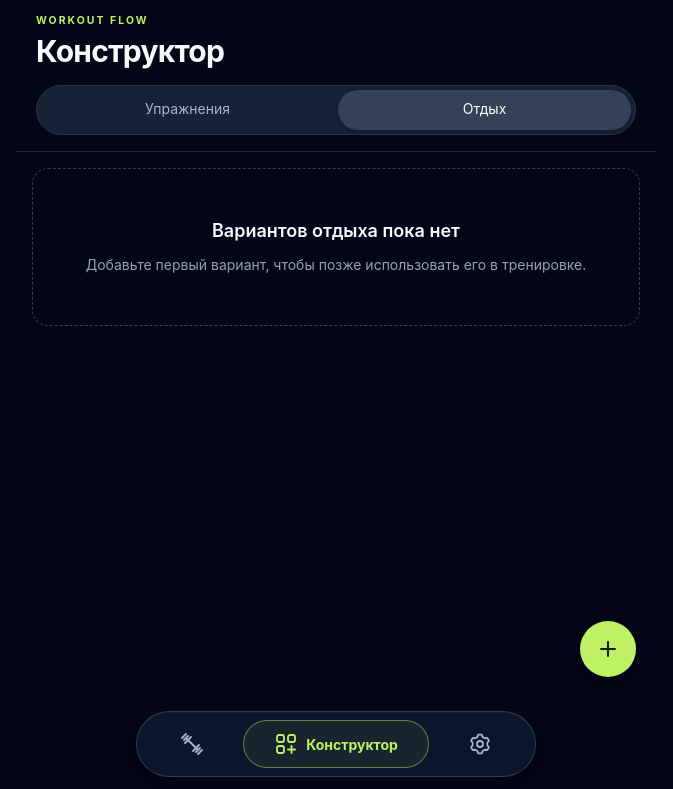
Test: rest preset catalog › opens the create form
Expected: the heading "Вариантов отдыха пока нет" is shown, left=212, top=220, right=460, bottom=241
Step 1. Click the button named "Добавить вариант отдыха" → (608, 649), box left=580, top=621, right=636, bottom=677
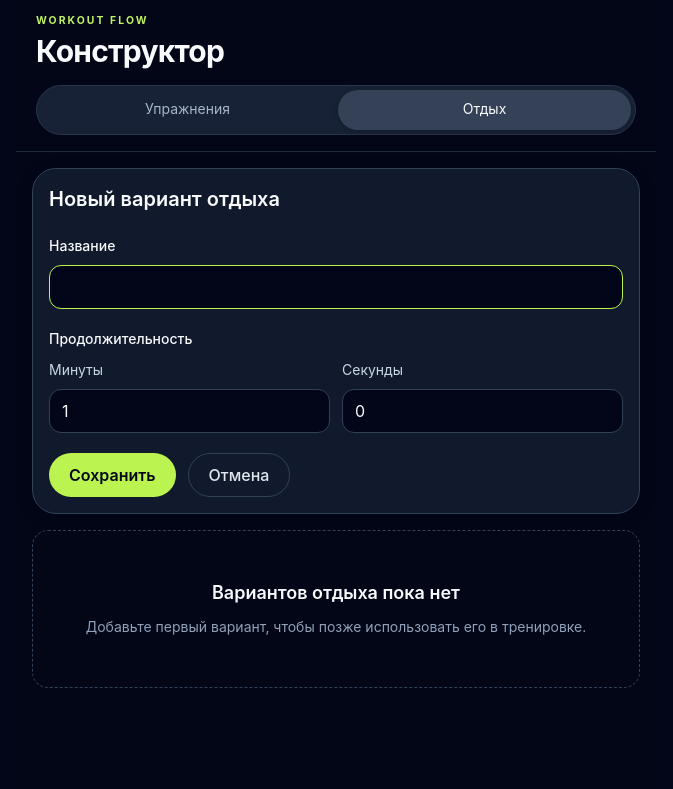
Expected: the heading "Новый вариант отдыха" is shown, left=49, top=187, right=280, bottom=211
